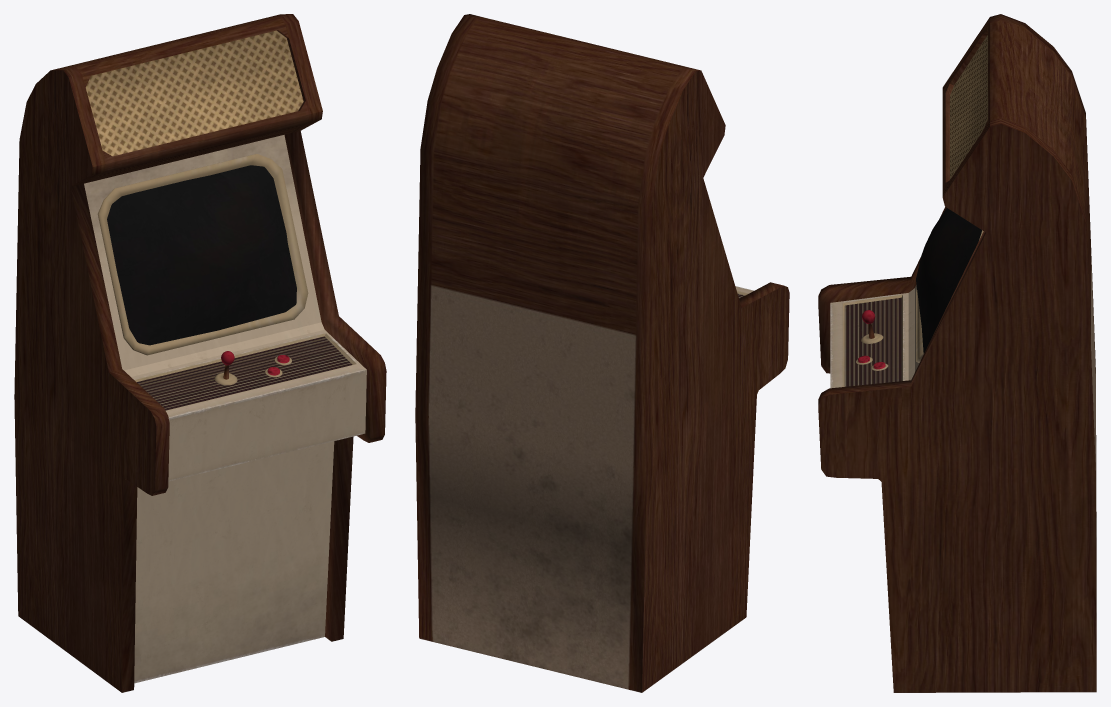
3 views of the same model, side by side, from view 1: azimuth 30°, elevation 25°; view 2: azimuth 150°, elevation 25°; view 3: azimuth 270°, elevation 25° (orthographic). The views are drawn at different scales.
Visible parts, largest first — view 1: ArcadeCabinet_LowPoly.003; view 2: ArcadeCabinet_LowPoly.003; view 3: ArcadeCabinet_LowPoly.003.
Boxes of the visible parts, x1,y1,x2,y2 form: ArcadeCabinet_LowPoly.003: (14,14,386,692); ArcadeCabinet_LowPoly.003: (415,14,789,692); ArcadeCabinet_LowPoly.003: (818,14,1096,692).
Size of the model in its own units: 0.8 by 1.94 by 0.8573.
1 material, 1 textured.
